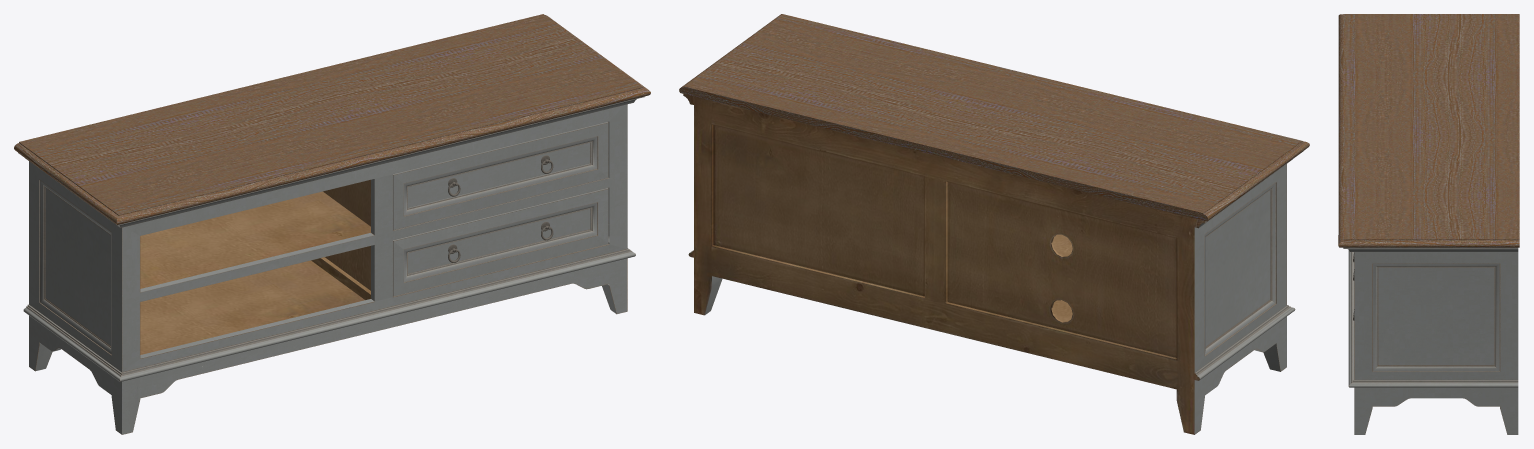
The model's file is example57.gltf.
3 renders of one model, left to right at view 1: azimuth 30°, elevation 25°; view 2: azimuth 150°, elevation 25°; view 3: azimuth 270°, elevation 25°, orthographic. The views are drawn at different scales.
Parts seen in each view (by area): view 1: Object_5, Object_4, Object_3; view 2: Object_3, Object_4, Object_5; view 3: Object_4, Object_5.
Part boxes in pixels (x1,y1,x2,y2): Object_5: [18, 96, 644, 434]; Object_4: [14, 14, 650, 224]; Object_3: [140, 179, 370, 354]; Object_3: [683, 94, 1205, 434]; Object_4: [679, 14, 1309, 221]; Object_5: [690, 151, 1303, 434]; Object_4: [1338, 14, 1519, 247]; Object_5: [1343, 247, 1518, 434].
Size of the model in its own units: 148 by 60 by 49.29.
Materials: 4 (4 with a texture image).
